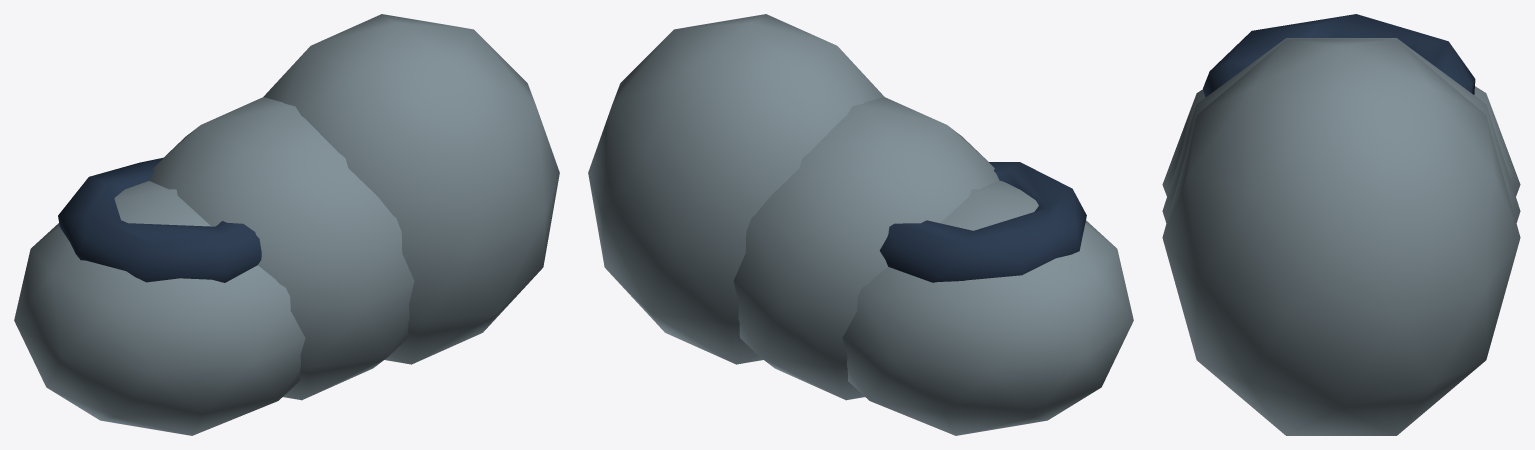
File: Geyser_vent_LOD2.glb
3 views of the same model, side by side, from view 1: azimuth 30°, elevation 25°; view 2: azimuth 150°, elevation 25°; view 3: azimuth 270°, elevation 25° (orthographic). The views are drawn at different scales.
Visible parts, largest first — view 1: Rock.008, Rock.006, Rock.007, Vent; view 2: Rock.008, Rock.006, Rock.007, Vent; view 3: Rock.008, Vent, Rock.007, Rock.006.
Boxes of the visible parts, x1,y1,x2,y2 form: Rock.008: [263, 14, 559, 364]; Rock.006: [14, 181, 305, 435]; Rock.007: [149, 97, 414, 400]; Vent: [58, 157, 261, 282]; Rock.008: [588, 14, 884, 364]; Rock.006: [842, 180, 1133, 435]; Rock.007: [733, 97, 999, 400]; Vent: [879, 162, 1086, 282]; Rock.008: [1162, 39, 1520, 435]; Vent: [1203, 14, 1475, 97]; Rock.007: [1162, 38, 1520, 222]; Rock.006: [1162, 86, 1520, 195].
Size of the model in its own units: 2.04 by 1.34 by 1.1.
